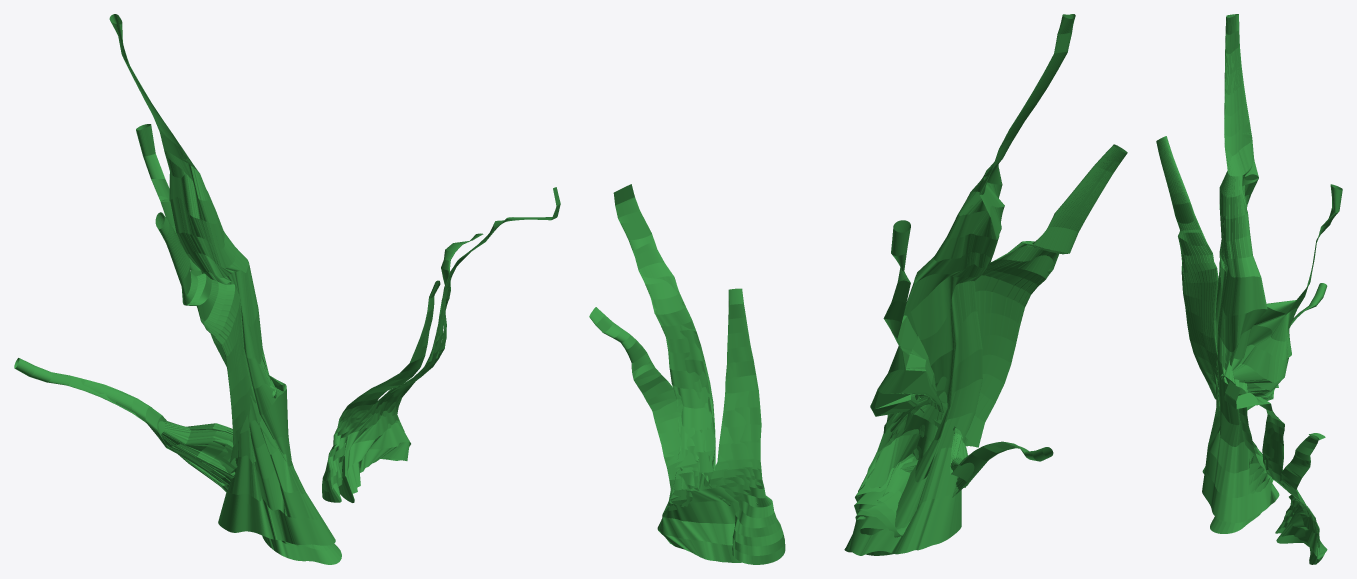
The model's file is Grass 1.fbx.
3 renders of one model, left to right at view 1: azimuth 30°, elevation 25°; view 2: azimuth 150°, elevation 25°; view 3: azimuth 270°, elevation 25°, orthographic. The views are drawn at different scales.
Visible parts, largest first — view 1: 円.006, 円.003; view 2: 円.006, 円.003; view 3: 円.006, 円.003.
Part boxes in pixels (bbox=[...]): 円.006: bbox=[14, 14, 341, 564]; 円.003: bbox=[322, 187, 560, 502]; 円.006: bbox=[844, 14, 1127, 555]; 円.003: bbox=[589, 184, 785, 564]; 円.006: bbox=[1156, 14, 1342, 533]; 円.003: bbox=[1224, 381, 1327, 564].
Size of the model in its own units: 121 by 139 by 53.32.
